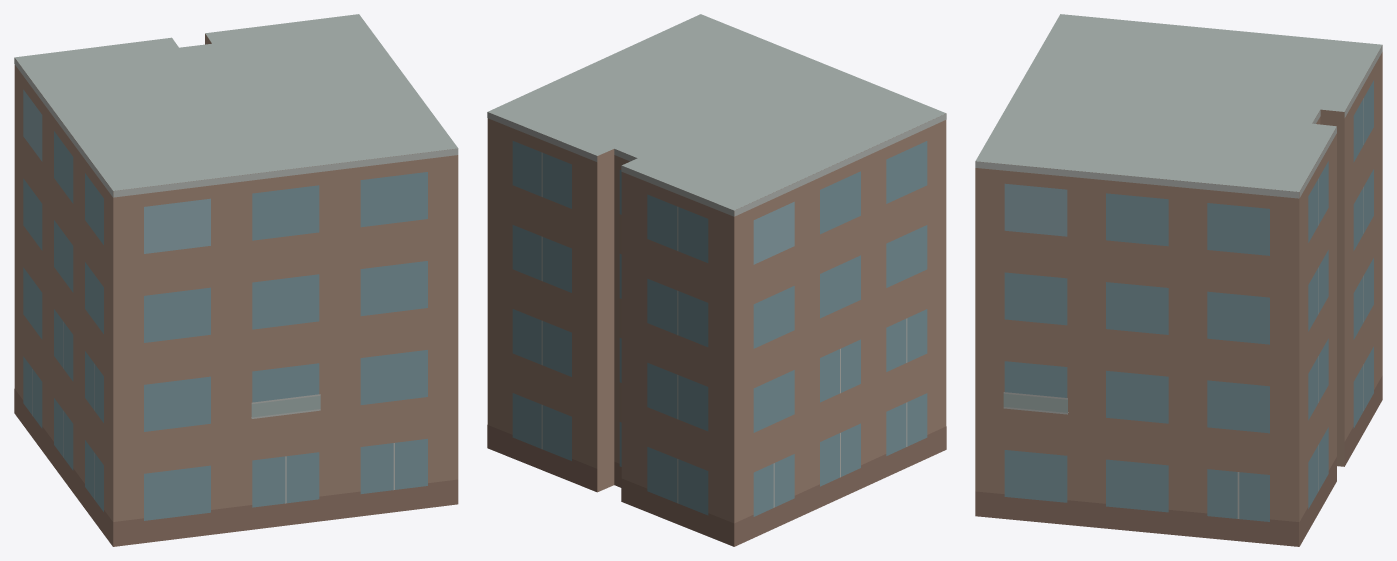
Rendered from survey-upis-33021796.glb.
3 views of the same model, side by side, from view 1: azimuth 30°, elevation 25°; view 2: azimuth 150°, elevation 25°; view 3: azimuth 270°, elevation 25° (orthographic). The views are drawn at different scales.
Visible parts, largest first — view 1: survey-upis-33021796.tmp; view 2: survey-upis-33021796.tmp; view 3: survey-upis-33021796.tmp.
Boxes of the visible parts, x1,y1,x2,y2 form: survey-upis-33021796.tmp: (14, 14, 458, 546); survey-upis-33021796.tmp: (487, 14, 946, 546); survey-upis-33021796.tmp: (975, 14, 1382, 546).
Bounding box in the file's own units: 14.16 × 13.15 × 13.69.
